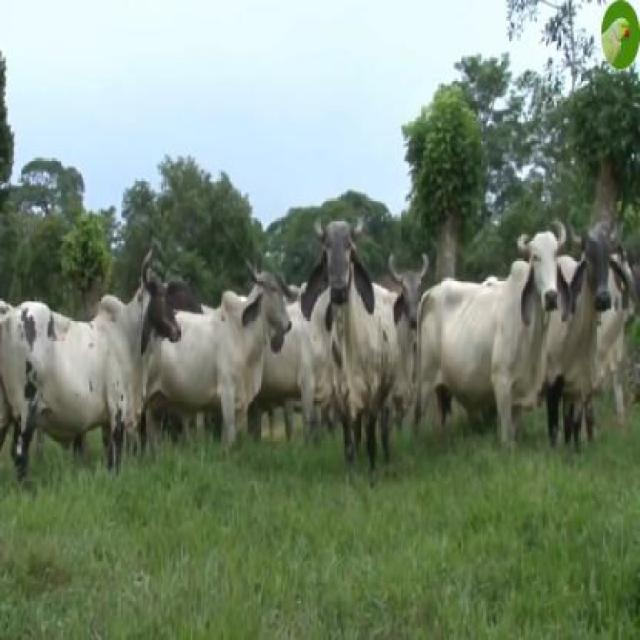Cow: (412, 218, 566, 437), (298, 215, 397, 457)
